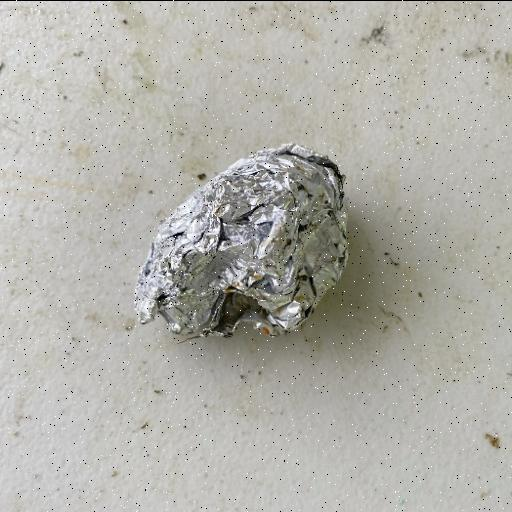Metal: (131, 141, 351, 344)
